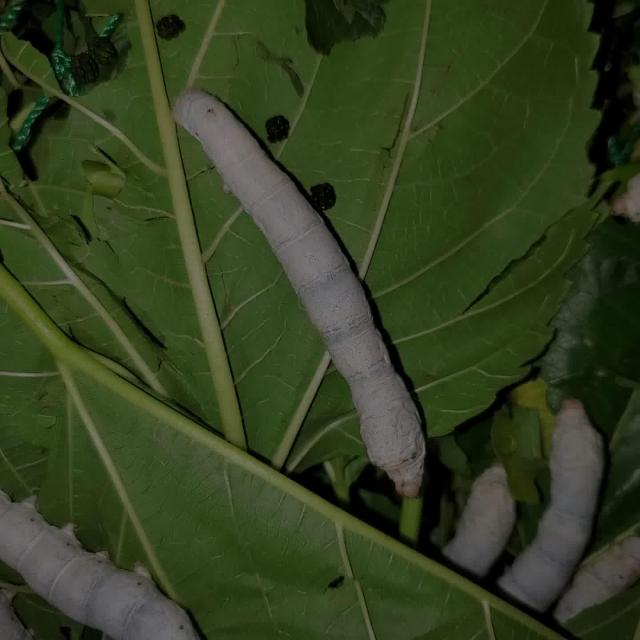Healthy: (166, 81, 440, 507)
